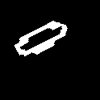chain: (15, 21, 66, 55)
